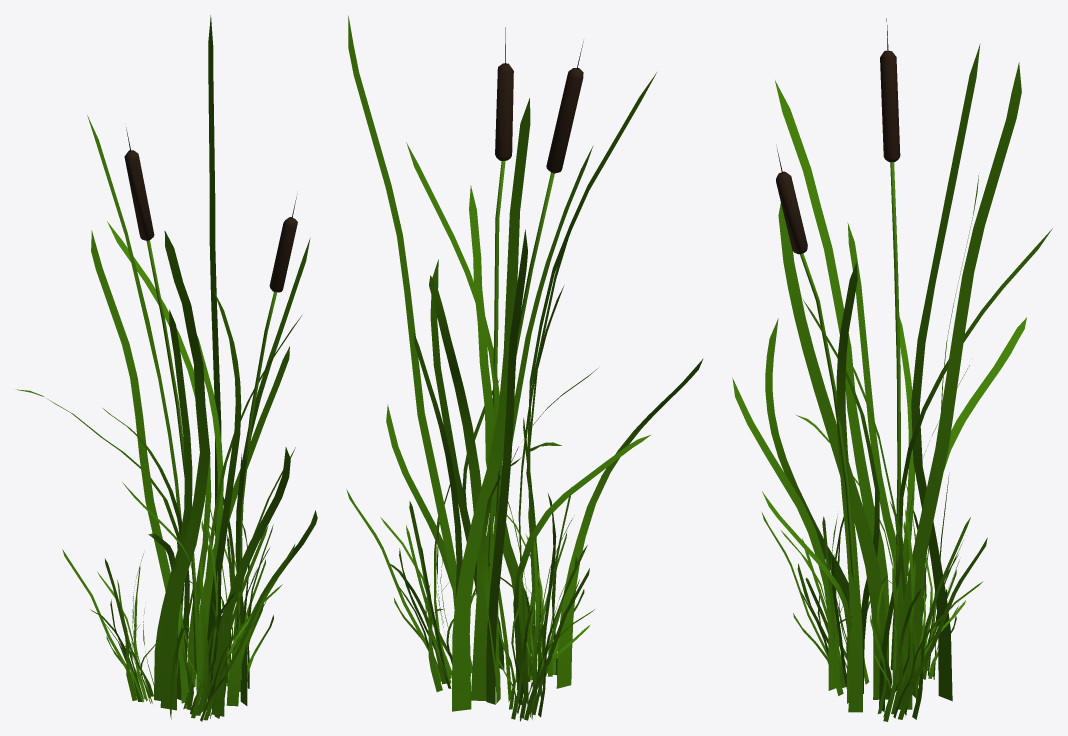
Rendered from cattail.glb.
The picture shows the model from 3 angles, left to right: view 1: azimuth 30°, elevation 25°; view 2: azimuth 150°, elevation 25°; view 3: azimuth 270°, elevation 25°; orthographic projection. The views are drawn at different scales.
Visible parts, largest first — view 1: Object_4; view 2: Object_4; view 3: Object_4.
Boxes of the visible parts, bbox=[...] form: Object_4: bbox=[16, 15, 317, 721]; Object_4: bbox=[346, 15, 703, 721]; Object_4: bbox=[732, 18, 1052, 721].
Size of the model in its own units: 0.6121 by 1.61 by 0.6953.
1 material, 1 textured.
